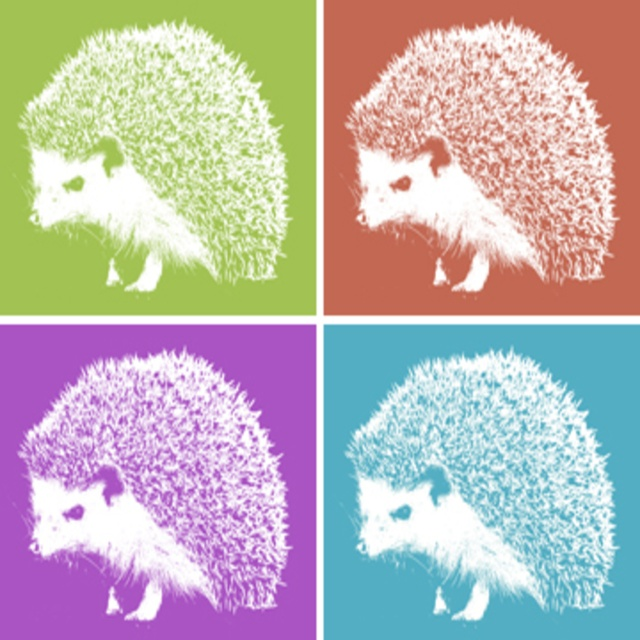Hedgehog: (10, 15, 292, 298), (340, 15, 619, 296), (340, 345, 615, 626), (16, 343, 289, 626)
